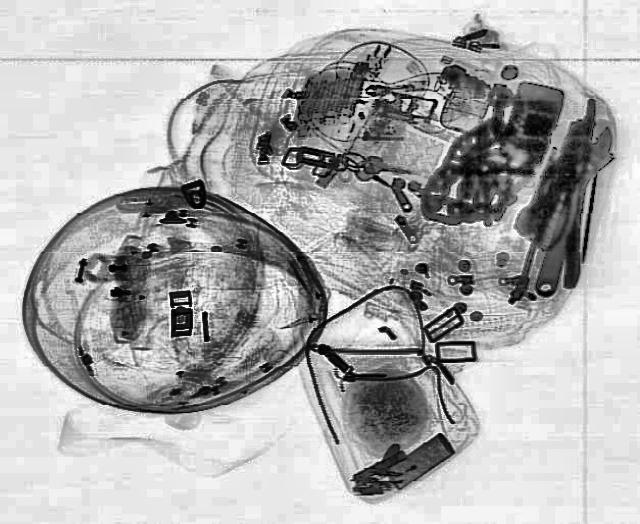Wrench: (518, 115, 618, 299)
